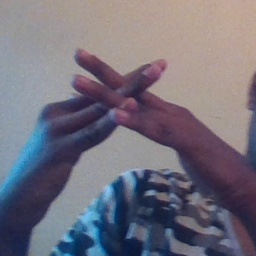W: (50, 37, 194, 165)
